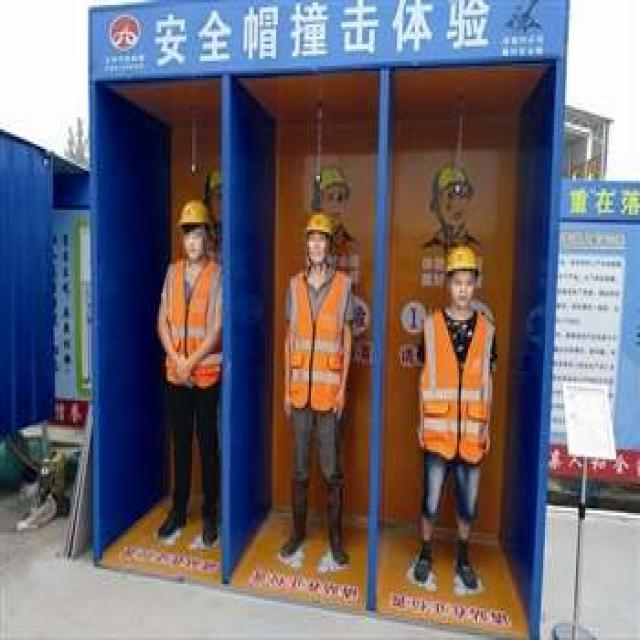Reflective-Jacket: (417, 306, 497, 460), (284, 266, 351, 411), (161, 259, 221, 388)
Safety-Helmet: (442, 242, 481, 278), (178, 195, 208, 228), (304, 210, 334, 237)
